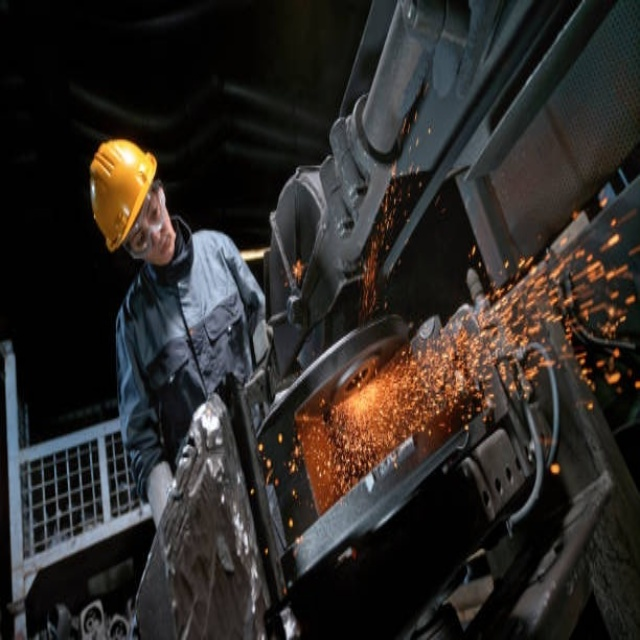Gafas: (119, 185, 158, 256)
Sin_mascara: (154, 227, 173, 262)
